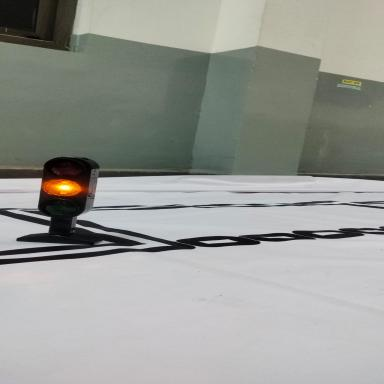yellow: (23, 153, 128, 252)
